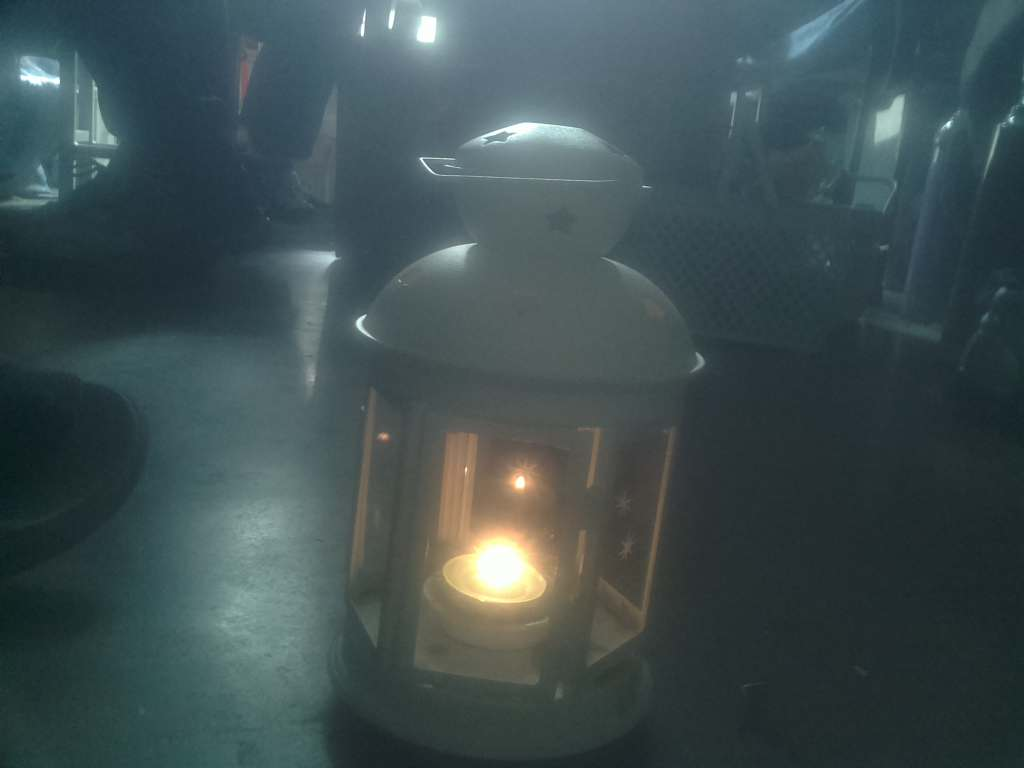fire: (444, 529, 549, 618)
